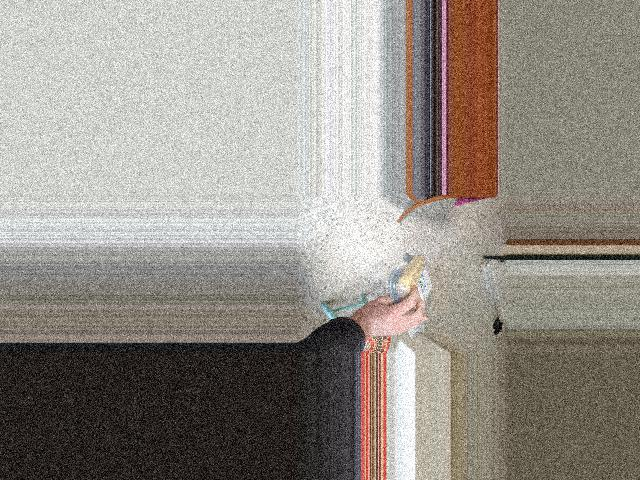cheese: (395, 253, 431, 327)
